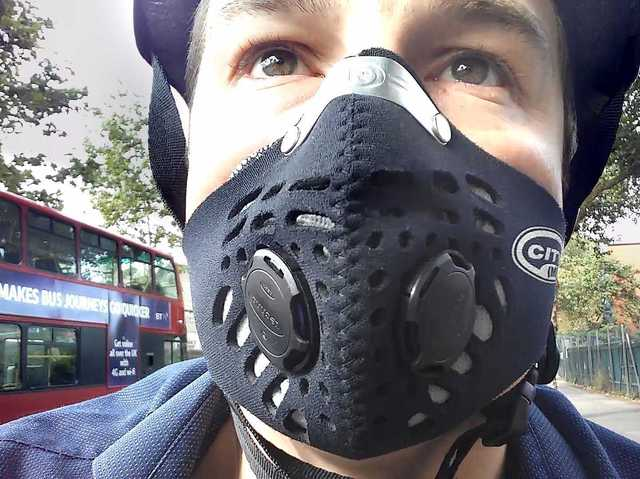mask: (170, 163, 574, 402)
